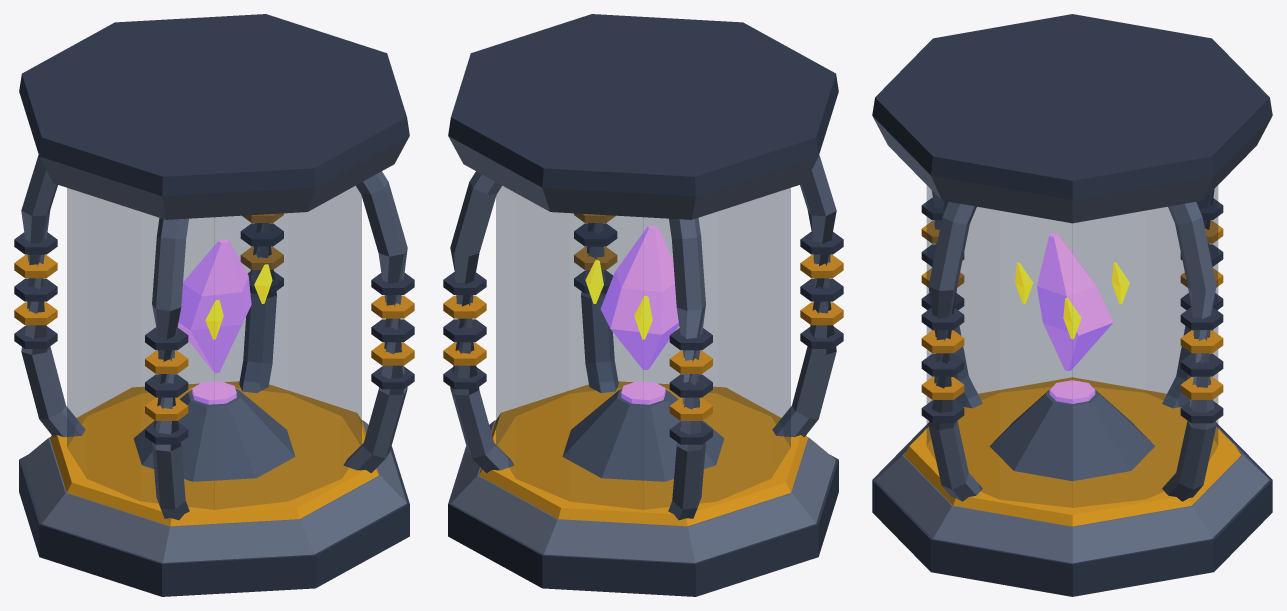
The model's file is lab_anomaly_containment_pod.glb.
3 views of the same model, side by side, from view 1: azimuth 30°, elevation 25°; view 2: azimuth 150°, elevation 25°; view 3: azimuth 270°, elevation 25° (orthographic).
Parts seen in each view (by area): view 1: cap, magnetic_shield, field_arm, lower_yoke, striped_collar, anomaly, ceramic_winding.001, orbiting_shard; view 2: cap, magnetic_shield, field_arm, lower_yoke, striped_collar, anomaly, ceramic_winding.001, orbiting_shard; view 3: cap, magnetic_shield, field_arm, lower_yoke, striped_collar, anomaly, ceramic_winding.001, orbiting_shard.
Boxes of the visible parts, x1,y1,x2,y2 form: cap: (14,14,414,596); magnetic_shield: (67,186,361,509); field_arm: (21,155,407,520); lower_yoke: (22,136,409,562); striped_collar: (50,381,378,526); anomaly: (178,239,251,404); ceramic_winding.001: (14,213,414,420); orbiting_shard: (205,264,272,339); cap: (443,14,843,596); magnetic_shield: (496,186,790,509); field_arm: (450,155,836,520); lower_yoke: (448,136,835,562); striped_collar: (479,381,807,526); anomaly: (600,225,679,404); ceramic_winding.001: (443,213,843,420); orbiting_shard: (585,260,652,339); cap: (872,14,1272,596); magnetic_shield: (927,186,1217,507); field_arm: (928,189,1216,501); lower_yoke: (873,117,1271,563); striped_collar: (904,377,1240,526); anomaly: (1037,233,1113,403); ceramic_winding.001: (921,221,1223,399); orbiting_shard: (1015,262,1129,339).
Bounding box in the file's own units: 2.8 × 3.2 × 2.8.
